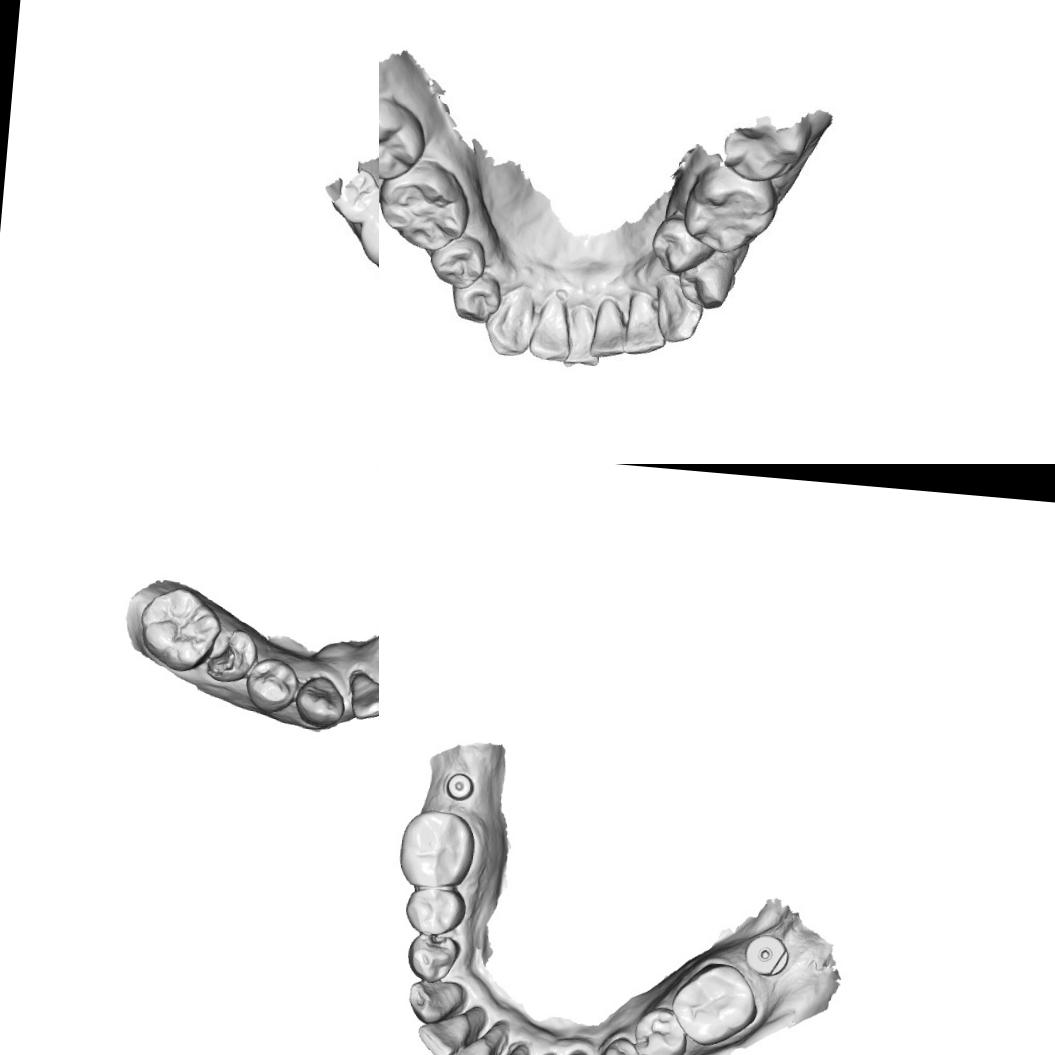canine: (483, 290, 536, 360), (654, 276, 706, 346), (404, 974, 466, 1026), (292, 672, 347, 730)
implant: (744, 930, 790, 975), (440, 768, 484, 812)
incisor: (563, 304, 607, 370), (528, 296, 570, 364), (622, 291, 666, 355), (588, 297, 629, 358), (414, 1012, 468, 1055), (344, 666, 379, 722), (431, 1033, 492, 1055)
molar: (678, 162, 782, 260), (666, 957, 759, 1049), (135, 584, 224, 674), (379, 166, 472, 252), (395, 806, 478, 892), (379, 98, 418, 184), (330, 166, 379, 224)
premolar: (402, 882, 468, 939), (203, 624, 260, 687), (244, 654, 300, 715), (651, 220, 715, 273), (629, 1002, 691, 1055), (428, 233, 484, 291), (404, 932, 459, 983), (678, 258, 730, 306), (452, 276, 500, 324), (354, 206, 379, 267), (593, 1035, 648, 1055)
